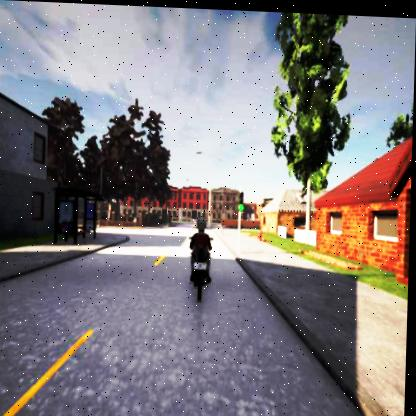motobike: (190, 217, 216, 302)
